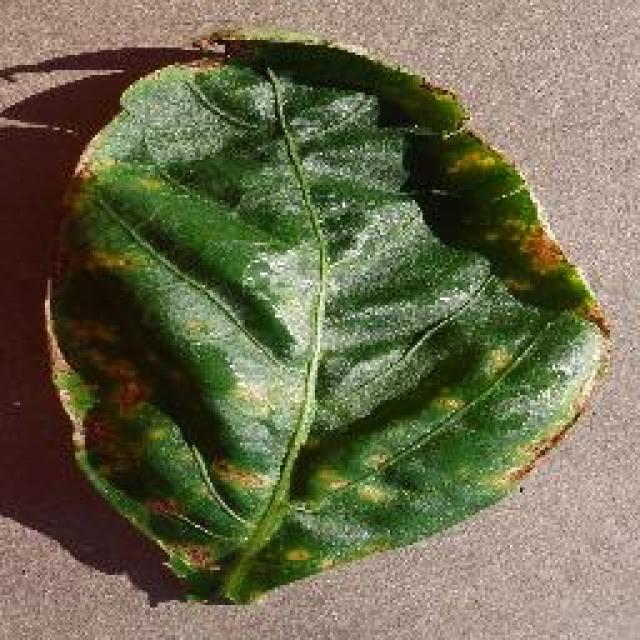Chilli_Bacterial_Spot: (40, 30, 612, 605), (405, 125, 607, 333), (48, 265, 160, 420), (435, 132, 505, 190), (205, 450, 270, 498), (518, 225, 568, 273), (310, 463, 352, 495), (110, 375, 145, 413), (353, 478, 395, 508), (483, 342, 515, 378), (190, 30, 228, 58), (180, 542, 215, 572), (425, 390, 465, 415), (360, 448, 390, 472), (280, 543, 312, 565)
